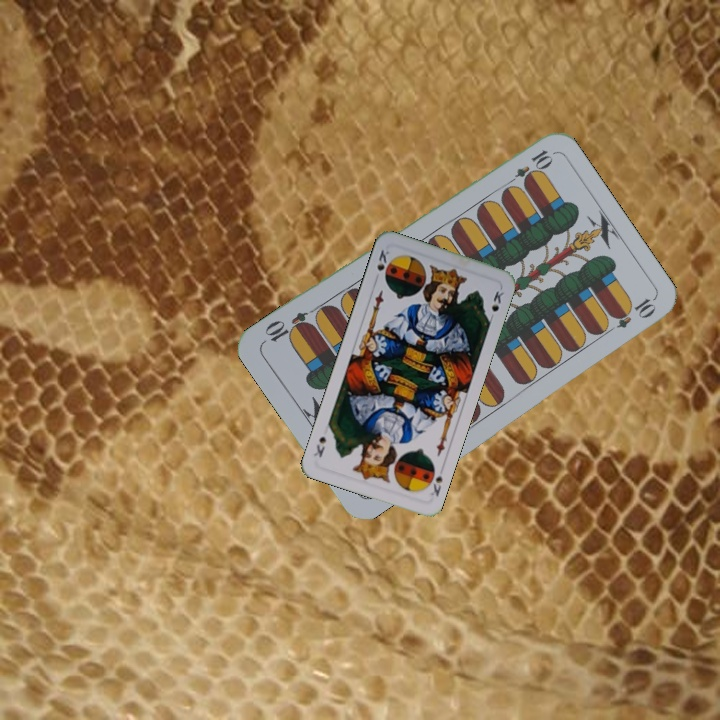E10: (502, 145, 555, 190)
SK: (426, 462, 447, 499), (373, 245, 392, 273)
